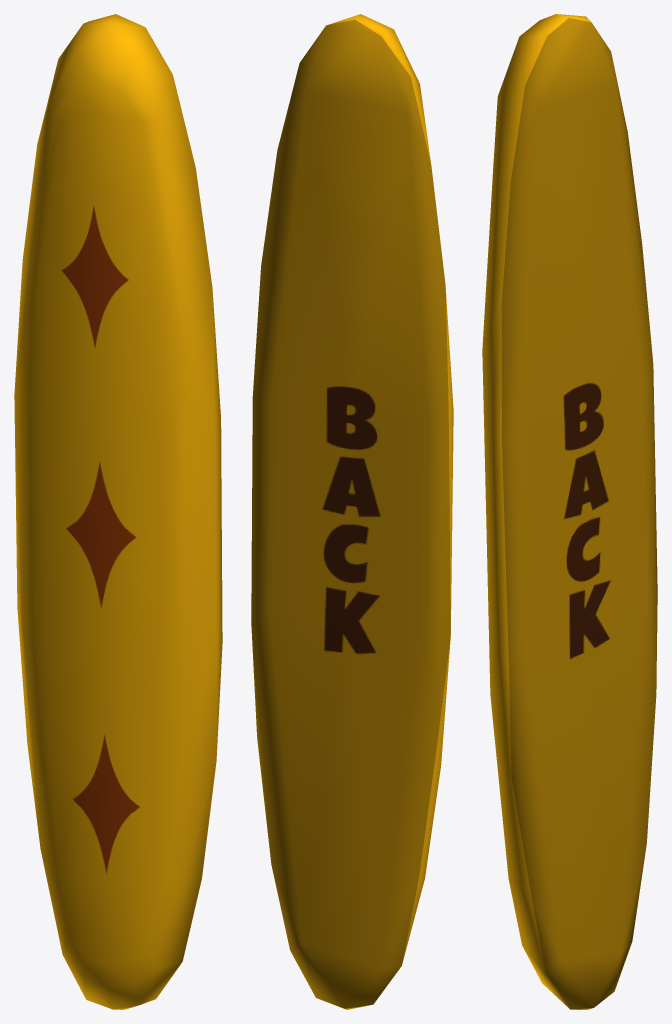
Rendered from yoot-v2-backdo.glb.
3 views of the same model, side by side, from view 1: azimuth 30°, elevation 25°; view 2: azimuth 210°, elevation 25°; view 3: azimuth 270°, elevation 25° (orthographic). The views are drawn at different scales.
Parts seen in each view (by area): view 1: yoot0; view 2: yoot0; view 3: yoot0.
Boxes of the visible parts, x1,y1,x2,y2 form: yoot0: (14, 14, 222, 1009); yoot0: (251, 14, 453, 1009); yoot0: (482, 14, 657, 1009).
Size of the model in its own units: 1.96 by 12.56 by 2.03.
1 material, 1 textured.
